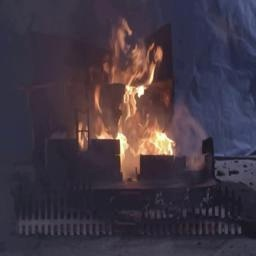fire: (77, 23, 184, 159)
